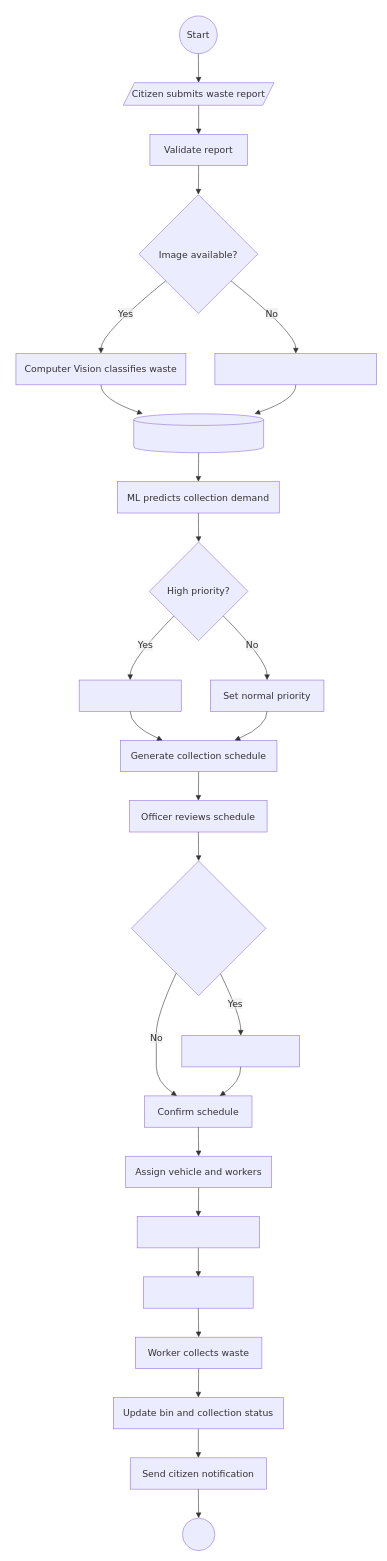
This 387x1561 diagram has some shape labels left out. The shapes that lost their labels are listed below. From the top down, each one's box as (x1, y1, x2, y2) in pixels, then its label:
(214, 353, 377, 385): Use bin sensor / report details
(133, 413, 264, 453): Waste Management Database
(79, 679, 181, 711): Set high priority
(131, 860, 266, 996): Approval required?
(181, 1035, 300, 1067): Supervisor approves
(137, 1216, 260, 1248): Driver receives route
(143, 1276, 253, 1308): Send GPS location
(182, 1518, 215, 1551): End
